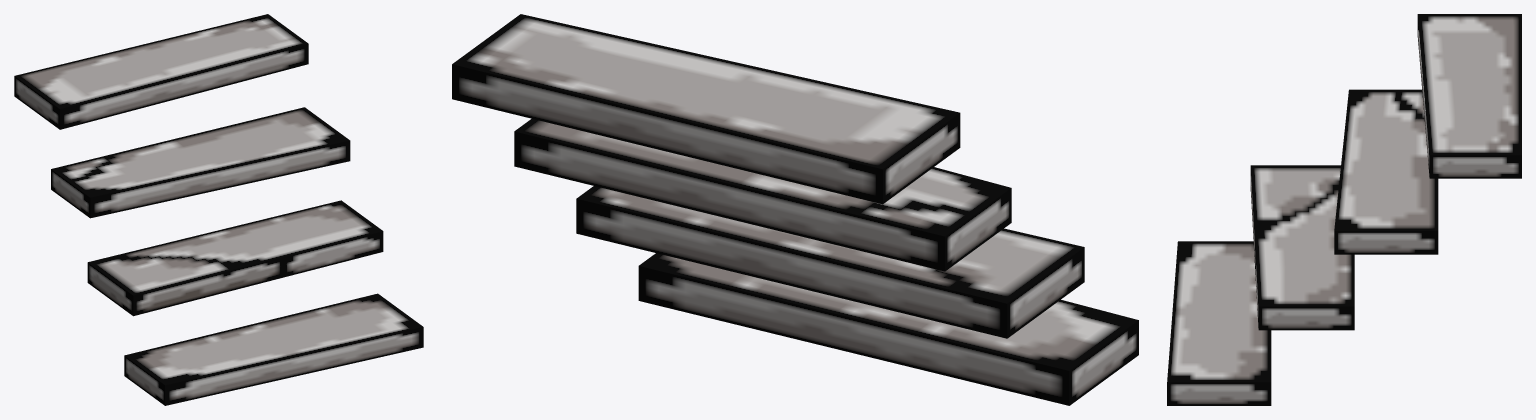
Rendered from deco_winter_stairsOverlayStone.FBX.
3 renders of one model, left to right at view 1: azimuth 30°, elevation 25°; view 2: azimuth 150°, elevation 25°; view 3: azimuth 270°, elevation 25°, orthographic. The views are drawn at different scales.
Parts seen in each view (by area): view 1: deco_winter_stairsOverlayStone; view 2: deco_winter_stairsOverlayStone; view 3: deco_winter_stairsOverlayStone.
Part boxes in pixels (x1=…): deco_winter_stairsOverlayStone: x1=14, y1=14, x2=423, y2=405; deco_winter_stairsOverlayStone: x1=452, y1=14, x2=1138, y2=405; deco_winter_stairsOverlayStone: x1=1167, y1=14, x2=1521, y2=405.
Bounding box in the file's own units: 2 × 1.66 × 2.12.
Materials: 1 (1 with a texture image).
